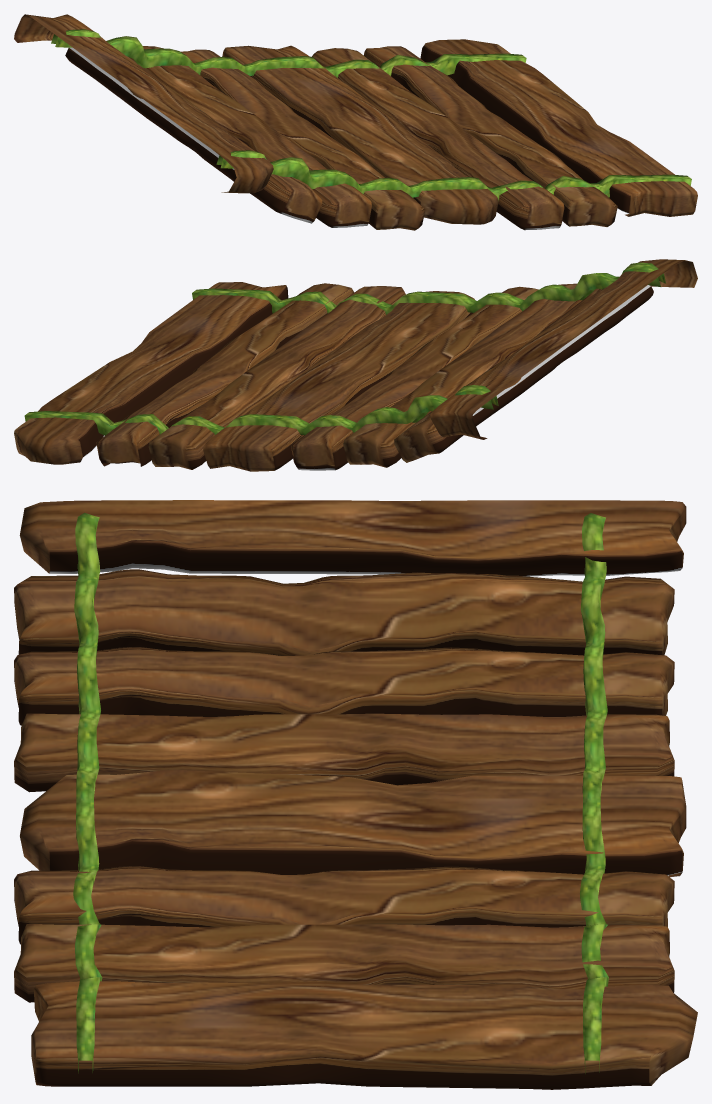
File: bridge.fbx
3 views of the same model, one above another, from view 1: azimuth 30°, elevation 25°; view 2: azimuth 150°, elevation 25°; view 3: azimuth 270°, elevation 25° (orthographic). The views are drawn at different scales.
Parts seen in each view (by area): view 1: polySurface66; view 2: polySurface66; view 3: polySurface66.
Part boxes in pixels (box(x1,y1,x2,y2)): polySurface66: box(14, 14, 697, 230); polySurface66: box(14, 259, 697, 471); polySurface66: box(14, 500, 697, 1089).
Size of the model in its own units: 932 by 297 by 749.
